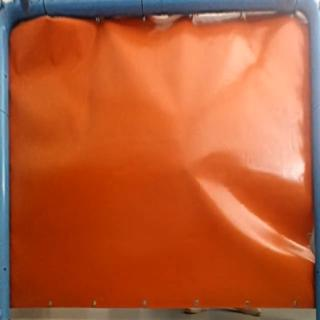Hit-hRxx: (179, 163, 194, 175)
